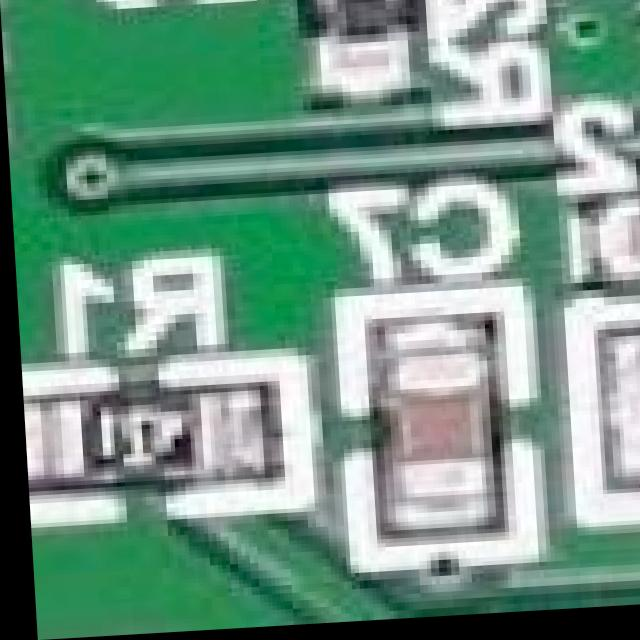capacitor: (334, 321, 510, 537), (604, 226, 640, 296)
resistor: (34, 385, 255, 485), (316, 0, 413, 89)
